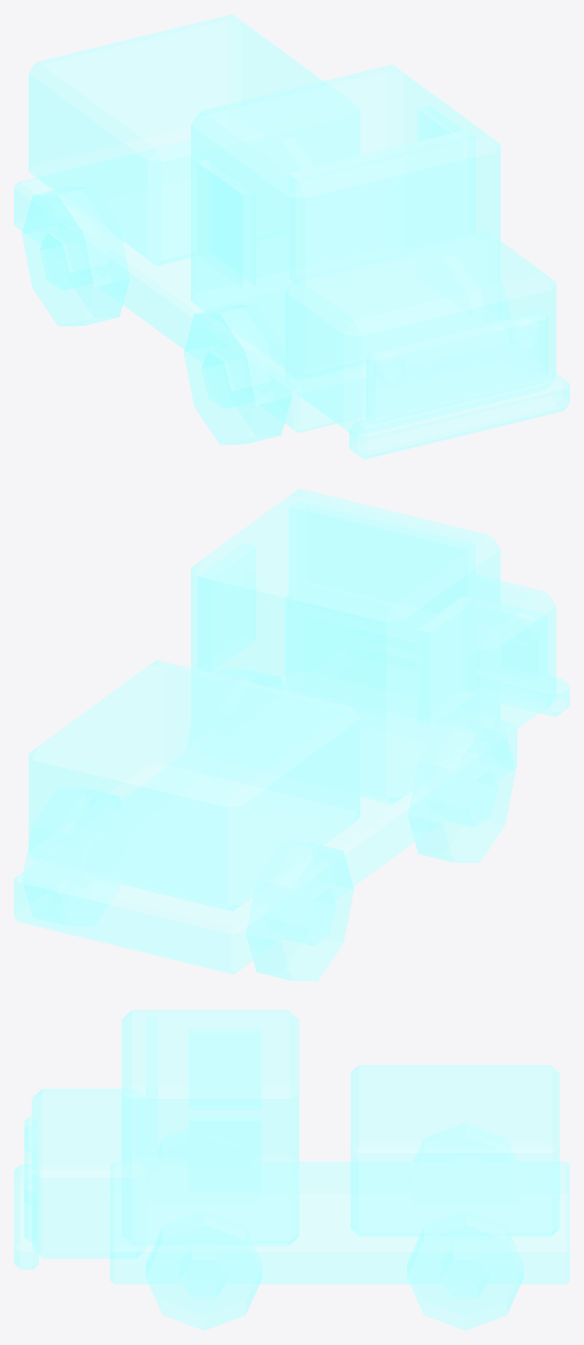
File: GH_Vehicle_OreTruck.fbx
3 views of the same model, one above another, from view 1: azimuth 30°, elevation 25°; view 2: azimuth 150°, elevation 25°; view 3: azimuth 270°, elevation 25° (orthographic). The views are drawn at different scales.
Visible parts, largest first — view 1: SM_Vehicle_OreTruck; view 2: SM_Vehicle_OreTruck; view 3: SM_Vehicle_OreTruck.
Boxes of the visible parts, x1=… form: SM_Vehicle_OreTruck: x1=14, y1=14, x2=569, y2=459; SM_Vehicle_OreTruck: x1=14, y1=488, x2=569, y2=981; SM_Vehicle_OreTruck: x1=14, y1=1010, x2=569, y2=1330.
Size of the model in its own units: 1.19 by 1.23 by 2.66.
